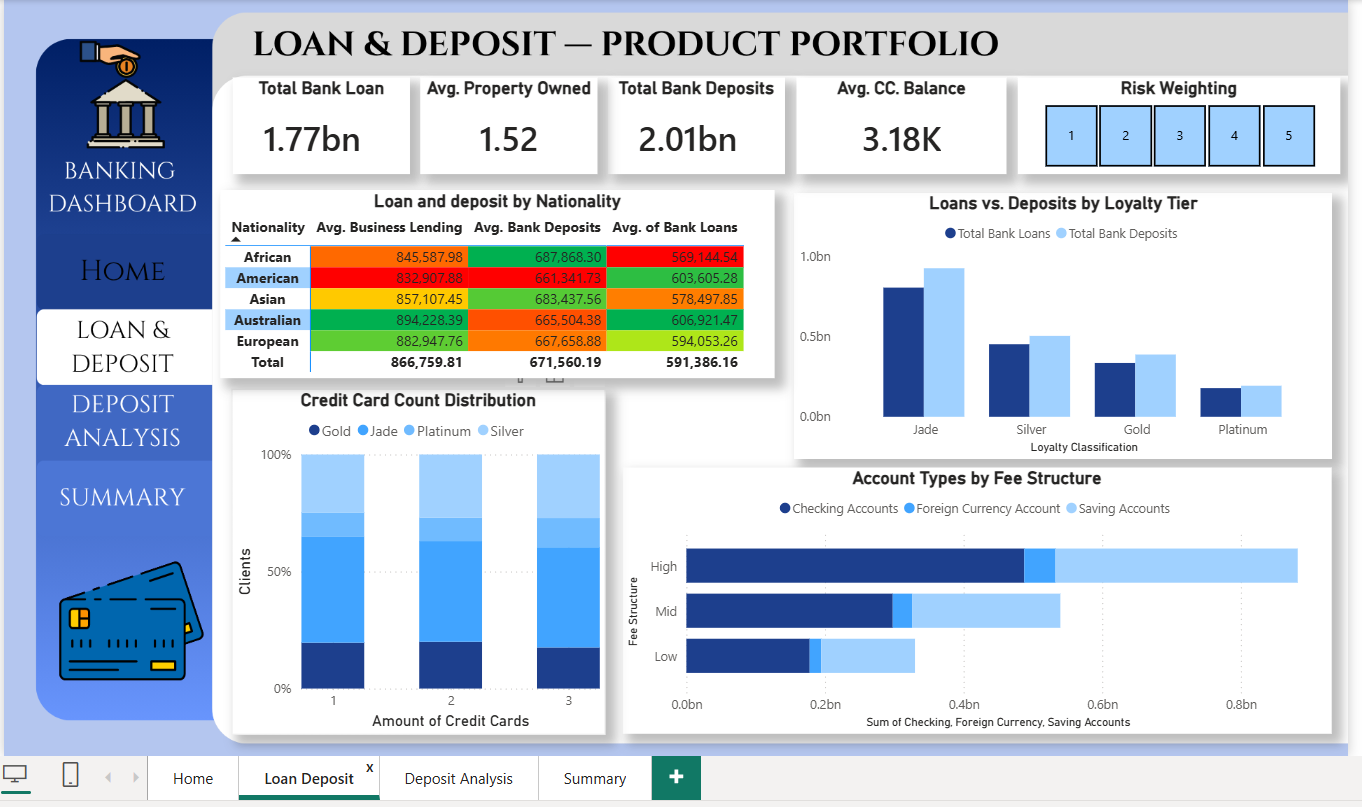

What the dashboard file says about the page in this screenshot:
{"tool":"powerbi","page":{"name":"Loan Deposit","canvas":[1280,720],"ordinal":1},"visuals":[{"type":"actionButton","box":[28.2,366.3,169.1,66.7],"z":0},{"type":"actionButton","box":[30.2,438.6,168.8,65.9],"z":1000},{"type":"actionButton","box":[30.2,230.5,168.8,67.2],"z":2000},{"type":"cardVisual","title":"Total Bank Loan","fields":{"Data":["Sum(banking-clients.Bank Loans)"]},"box":[218,74.2,169.1,92],"z":3000},{"type":"cardVisual","title":"Total Bank Deposits","fields":{"Data":["Sum(banking-clients.Bank Deposits)"]},"box":[575.5,74.2,169.1,92],"z":4000},{"type":"cardVisual","title":"Avg. CC. Balance","fields":{"Data":["Avg(banking-clients.Credit Card Balance)"]},"box":[754.9,74.2,200.2,92],"z":5000},{"type":"cardVisual","title":"Avg. Property Owned","fields":{"Data":["Avg(banking-clients.Properties Owned)"]},"box":[396,74.2,169.1,92],"z":6000},{"type":"slicer","title":"Risk Weighting ","fields":{"Values":["banking-clients.Risk Weighting"]},"box":[965.6,74.2,307,92],"z":7000},{"type":"clusteredColumnChart","title":"Loans vs. Deposits by Loyalty Tier","fields":{"Category":["banking-clients.Loyalty Classification"],"Y":["Sum(banking-clients.Bank Loans)","Sum(banking-clients.Bank Deposits)"]},"box":[752,183.9,513.2,253.6],"z":8000},{"type":"barChart","title":"Account Types by Fee Structure","fields":{"Category":["banking-clients.Fee Structure"],"Y":["Sum(banking-clients.Checking Accounts)","Sum(banking-clients.Foreign Currency Account)","Sum(banking-clients.Saving Accounts)"]},"box":[588.8,445,674.9,253.6],"z":9000},{"type":"hundredPercentStackedColumnChart","title":"Credit Card Count Distribution","fields":{"Category":["banking-clients.Amount of Credit Cards"],"Y":["CountNonNull(banking-clients.Client ID)"],"Series":["banking-clients.Loyalty Classification"]},"box":[216.5,370.8,356,329.3],"z":10000},{"type":"pivotTable","title":"Loan and deposit by Nationality","fields":{"Rows":["banking-clients.Nationality"],"Values":["Avg(banking-clients.Business Lending)","Avg(banking-clients.Bank Deposits)","Avg(banking-clients.Bank Loans)"]},"box":[206.2,181,528,179.5],"z":11000}]}

Visuals, with their boxes on the page's 1280x720 design canvas (x1, y1, x2, y2). These are canvas units, not pixel positions in the 1362x807 screenshot, which may show the page scaled, cropped or inside an application window:
actionButton: (left=28, top=366, right=197, bottom=433)
actionButton: (left=30, top=439, right=199, bottom=504)
actionButton: (left=30, top=230, right=199, bottom=298)
"Total Bank Loan" cardVisual: (left=218, top=74, right=387, bottom=166)
"Total Bank Deposits" cardVisual: (left=576, top=74, right=745, bottom=166)
"Avg. CC. Balance" cardVisual: (left=755, top=74, right=955, bottom=166)
"Avg. Property Owned" cardVisual: (left=396, top=74, right=565, bottom=166)
"Risk Weighting " slicer: (left=966, top=74, right=1273, bottom=166)
"Loans vs. Deposits by Loyalty Tier" clusteredColumnChart: (left=752, top=184, right=1265, bottom=438)
"Account Types by Fee Structure" barChart: (left=589, top=445, right=1264, bottom=699)
"Credit Card Count Distribution" hundredPercentStackedColumnChart: (left=216, top=371, right=572, bottom=700)
"Loan and deposit by Nationality" pivotTable: (left=206, top=181, right=734, bottom=360)
